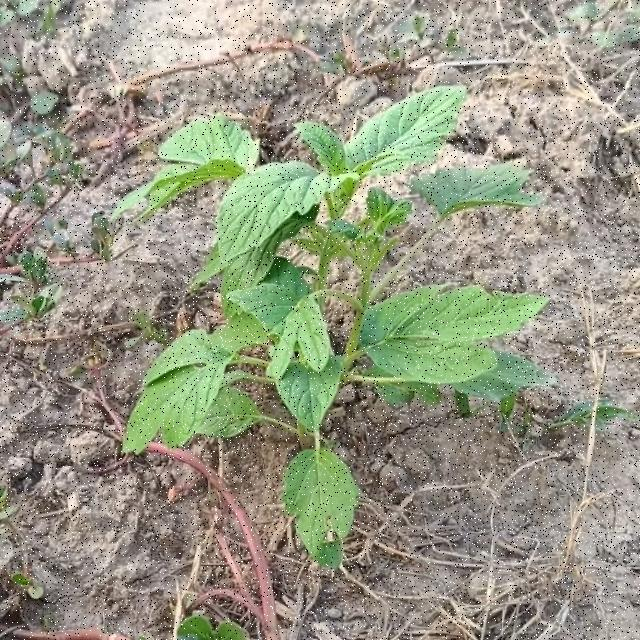plant: (117, 86, 547, 567)
